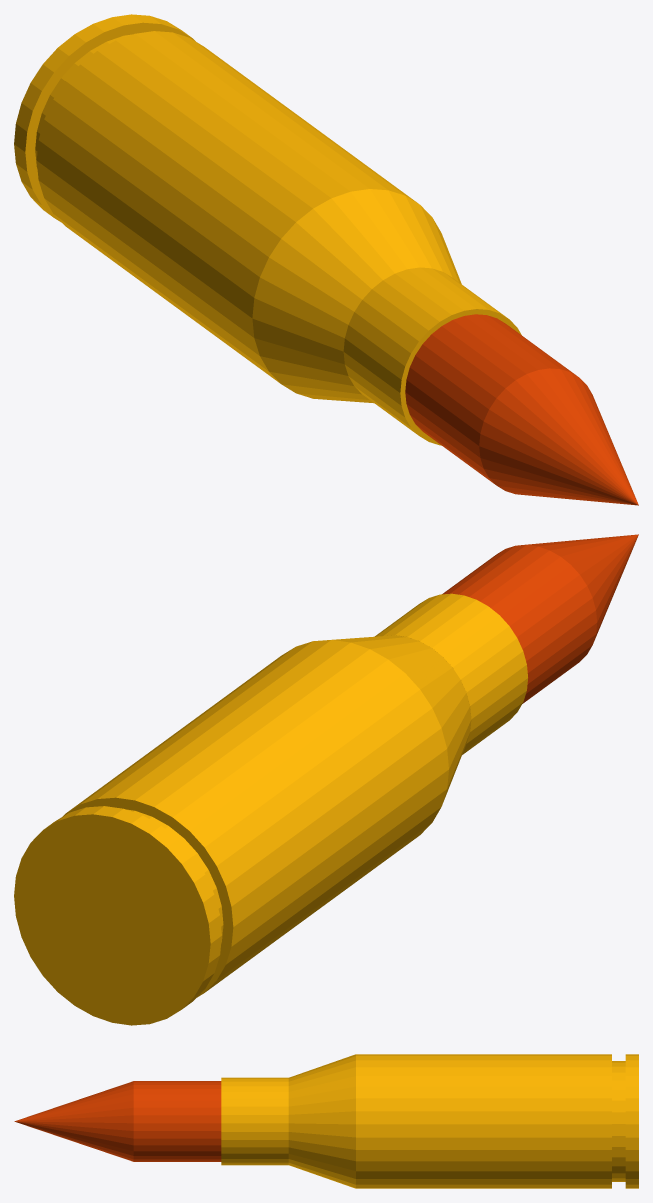
Rendered from assultBullet.gltf.
The picture shows the model from 3 angles, top to bottom: view 1: azimuth 30°, elevation 25°; view 2: azimuth 150°, elevation 25°; view 3: azimuth 270°, elevation 25°; orthographic projection. The views are drawn at different scales.
Parts seen in each view (by area): view 1: 円柱.001, 円錐; view 2: 円柱.001, 円錐; view 3: 円柱.001, 円錐.
Boxes of the visible parts, left/top/right/bottom form: 円柱.001: left=14, top=14, right=521, bottom=445; 円錐: left=405, top=314, right=638, bottom=505; 円柱.001: left=14, top=593, right=527, bottom=1025; 円錐: left=442, top=534, right=638, bottom=703; 円柱.001: left=221, top=1054, right=638, bottom=1188; 円錐: left=14, top=1081, right=221, bottom=1161.
Size of the model in its own units: 0.3 by 0.3 by 1.39.
